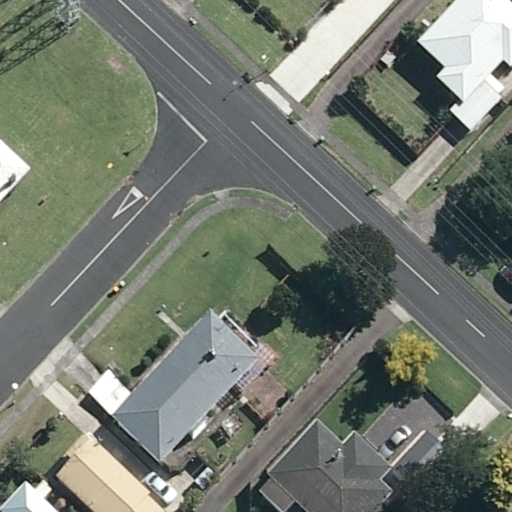TT: (48, 1, 84, 37)
